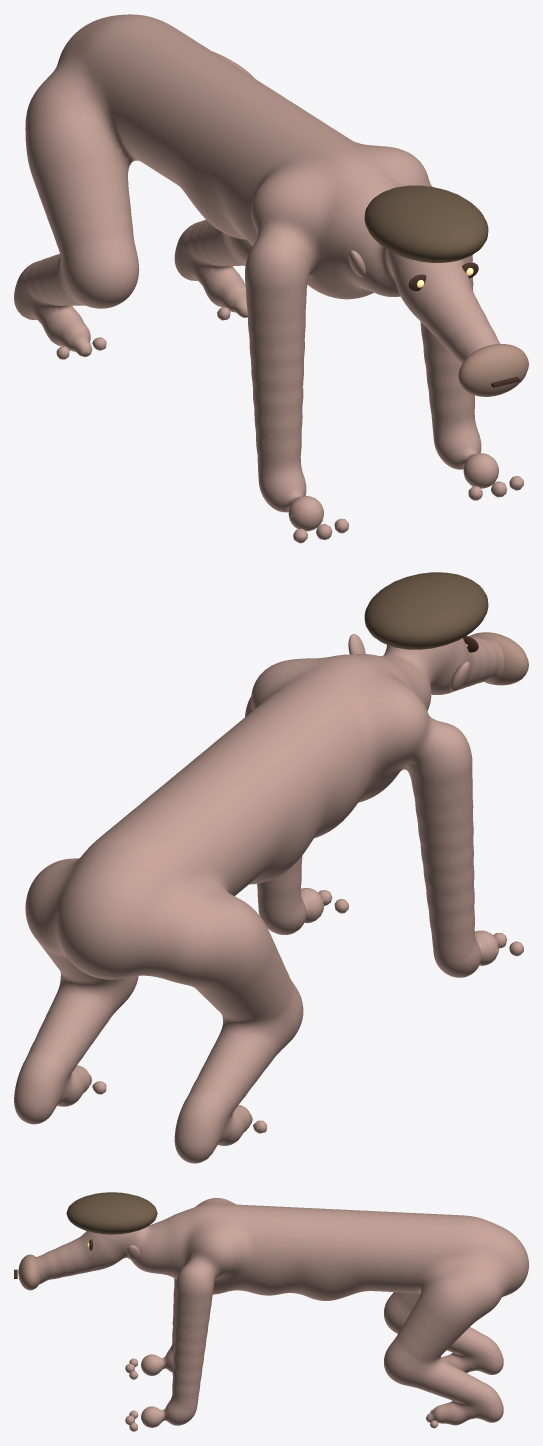
The model's file is cart-titan.glb.
3 views of the same model, one above another, from view 1: azimuth 30°, elevation 25°; view 2: azimuth 150°, elevation 25°; view 3: azimuth 270°, elevation 25° (orthographic). The views are drawn at different scales.
Parts seen in each view (by area): view 1: Skin.001, HairCrown, Lips; view 2: Skin.001, HairCrown, Lips; view 3: Skin.001, HairCrown, Lips.
Part boxes in pixels (bbox=[...]): Skin.001: bbox=[14, 14, 523, 543]; HairCrown: bbox=[364, 185, 488, 262]; Lips: bbox=[458, 343, 528, 396]; Skin.001: bbox=[14, 635, 523, 1163]; HairCrown: bbox=[364, 572, 488, 649]; Lips: bbox=[469, 632, 528, 685]; Skin.001: bbox=[35, 1198, 528, 1431]; HairCrown: bbox=[66, 1192, 157, 1234]; Lips: bbox=[18, 1254, 40, 1290].
Bounding box in the file's own units: 2.24 × 3.09 × 7.12.
